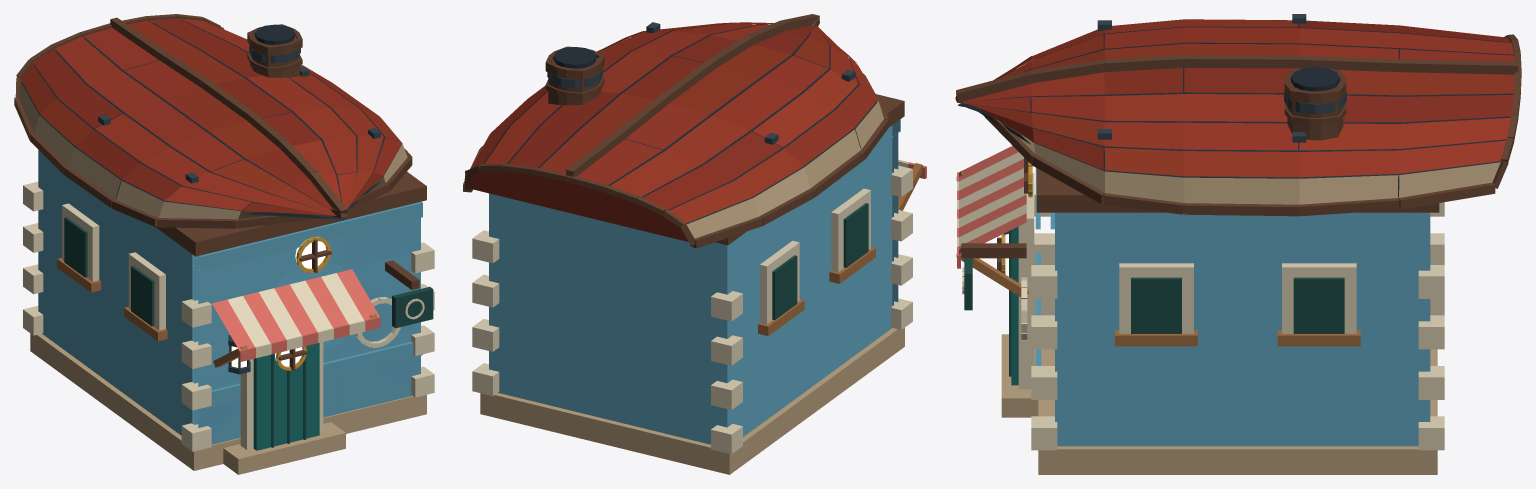
File: net-loft-small-sky.glb
3 renders of one model, left to right at view 1: azimuth 30°, elevation 25°; view 2: azimuth 150°, elevation 25°; view 3: azimuth 270°, elevation 25°, orthographic. The views are drawn at different scales.
Parts seen in each view (by area): view 1: net-loft-small-sky; view 2: net-loft-small-sky; view 3: net-loft-small-sky.
Boxes of the visible parts, <box> form: net-loft-small-sky: <box>14,14,434,474</box>; net-loft-small-sky: <box>463,14,926,474</box>; net-loft-small-sky: <box>955,14,1521,474</box>.
Size of the model in its own units: 3.32 by 3.49 by 4.78.
